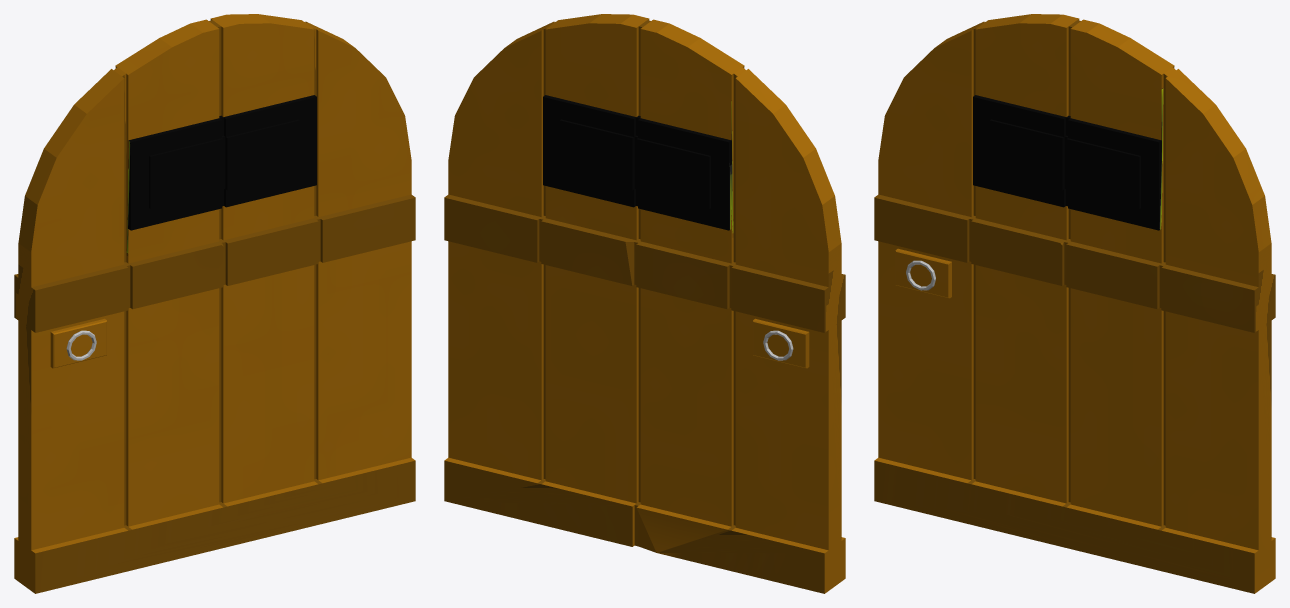
Rendered from Door_1.fbx.
3 renders of one model, left to right at view 1: azimuth 30°, elevation 25°; view 2: azimuth 150°, elevation 25°; view 3: azimuth 330°, elevation 25°, orthographic.
Parts seen in each view (by area): view 1: Door 1; view 2: Door 1; view 3: Door 1.
Part boxes in pixels (bbox=[...]): Door 1: bbox=[14, 14, 415, 593]; Door 1: bbox=[444, 14, 845, 593]; Door 1: bbox=[874, 14, 1275, 593].
Bounding box in the file's own units: 157 × 203 × 16.16.
